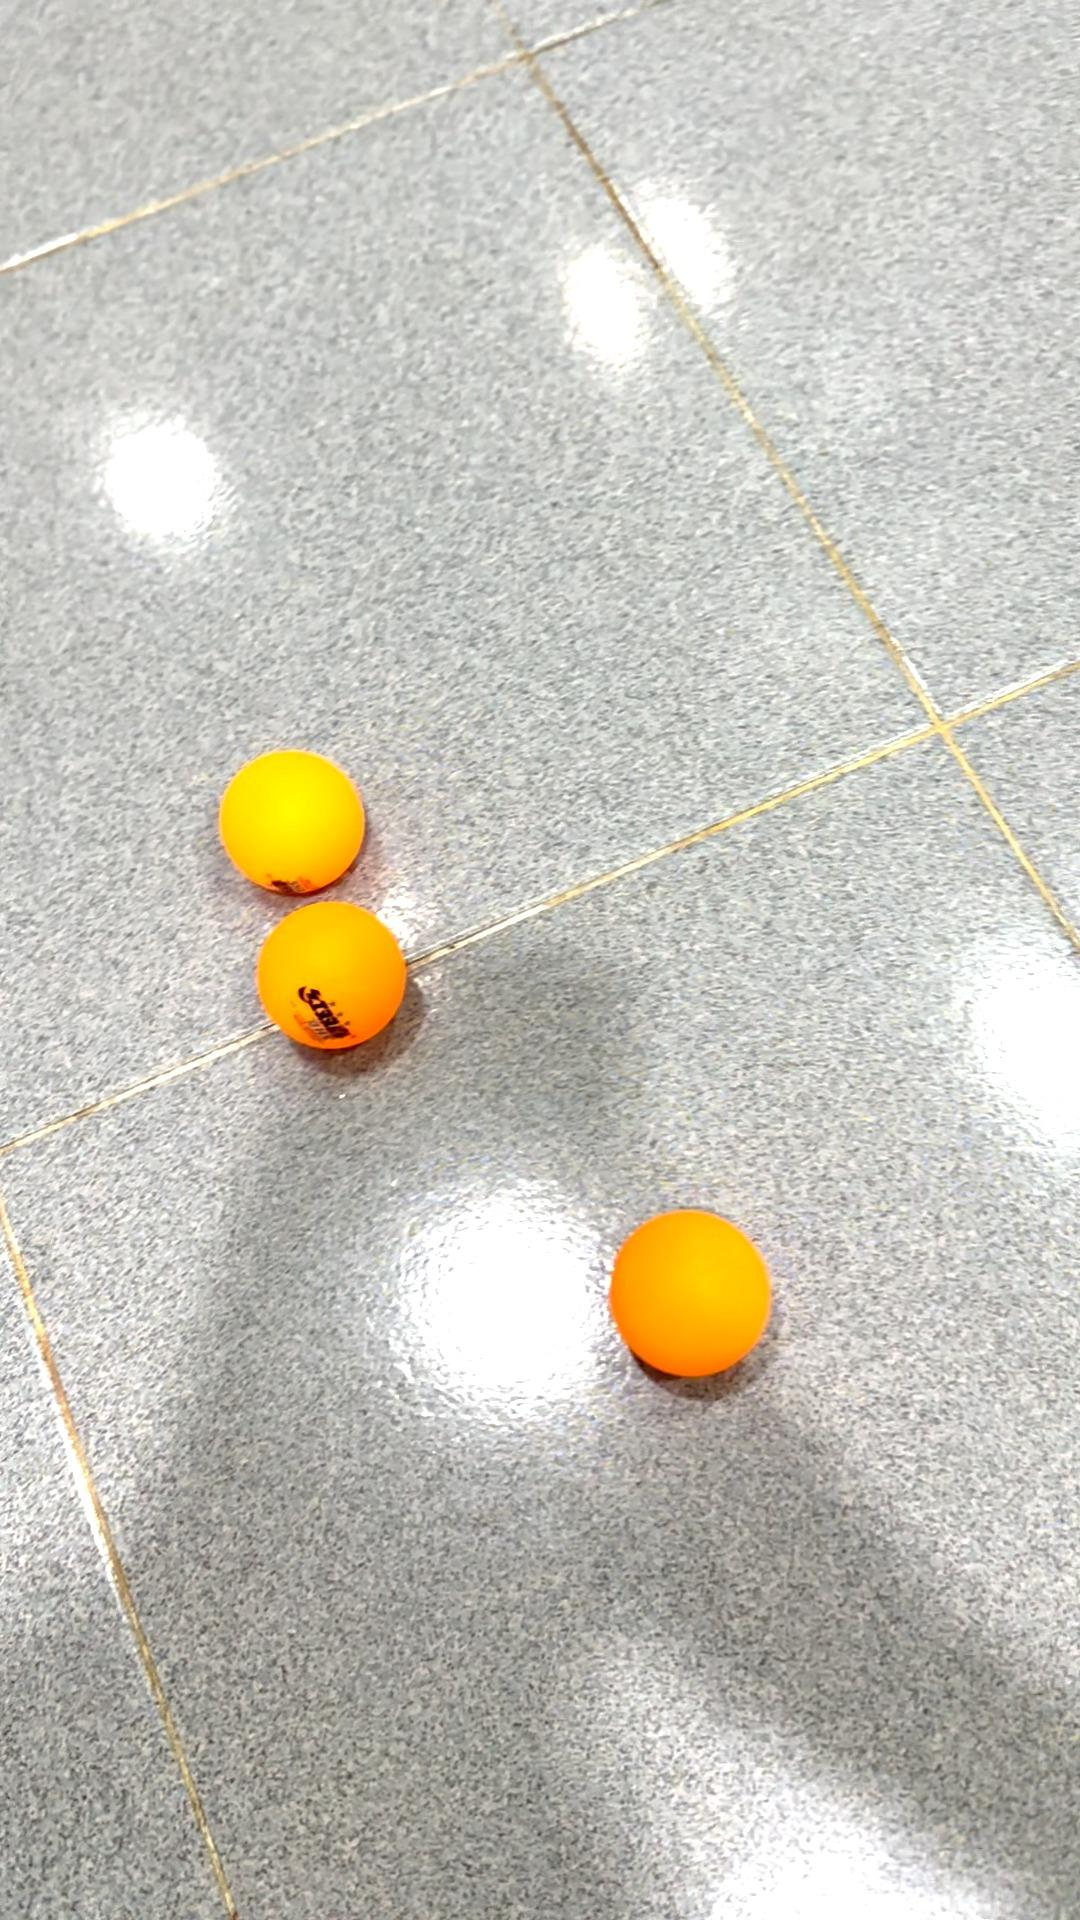oball: (244, 898, 429, 1080), (611, 1204, 783, 1386), (211, 735, 390, 902)
